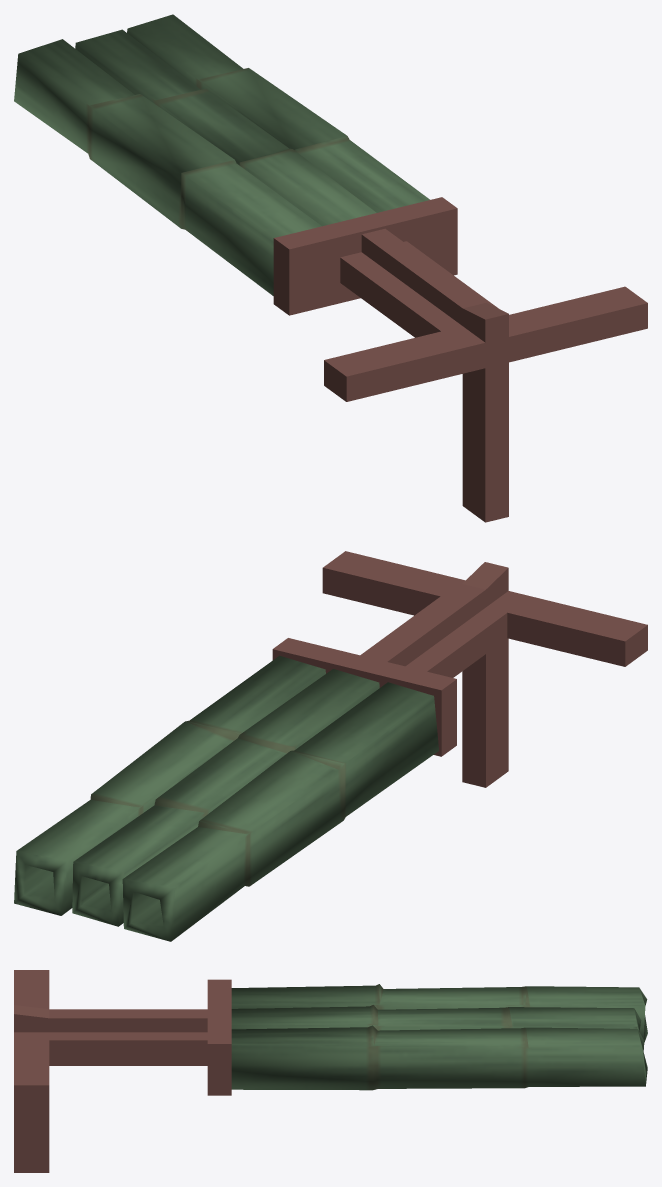
The model's file is bamboo_mid_3.glb.
3 views of the same model, one above another, from view 1: azimuth 30°, elevation 25°; view 2: azimuth 150°, elevation 25°; view 3: azimuth 270°, elevation 25° (orthographic). The views are drawn at different scales.
Visible parts, largest first — view 1: Obstacle.003, Stand.002; view 2: Obstacle.003, Stand.002; view 3: Obstacle.003, Stand.002.
Boxes of the visible parts, x1=… form: Obstacle.003: x1=14, y1=14, x2=429, y2=295; Stand.002: x1=273, y1=197, x2=647, y2=522; Obstacle.003: x1=14, y1=655, x2=438, y2=941; Stand.002: x1=272, y1=551, x2=647, y2=787; Obstacle.003: x1=231, y1=984, x2=647, y2=1090; Stand.002: x1=14, y1=970, x2=231, y2=1172.
Bounding box in the file's own units: 1.12 × 0.7223 × 2.61.
Materials: 2 (1 with a texture image).
